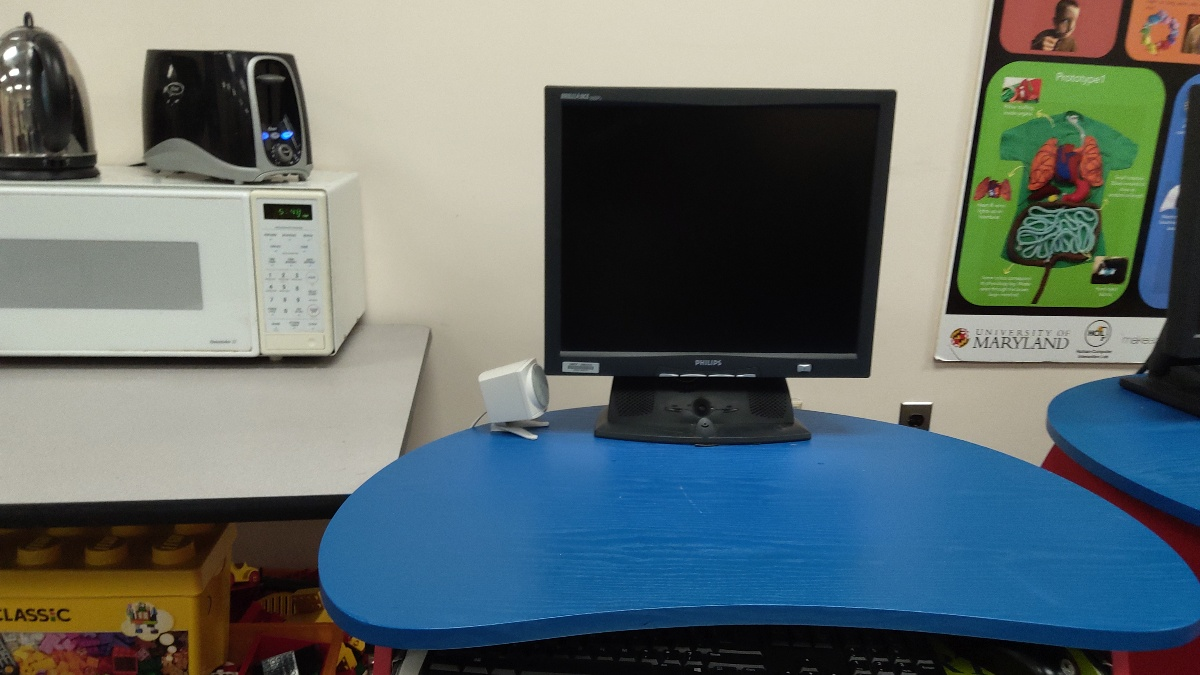monitor: (536, 77, 901, 386)
